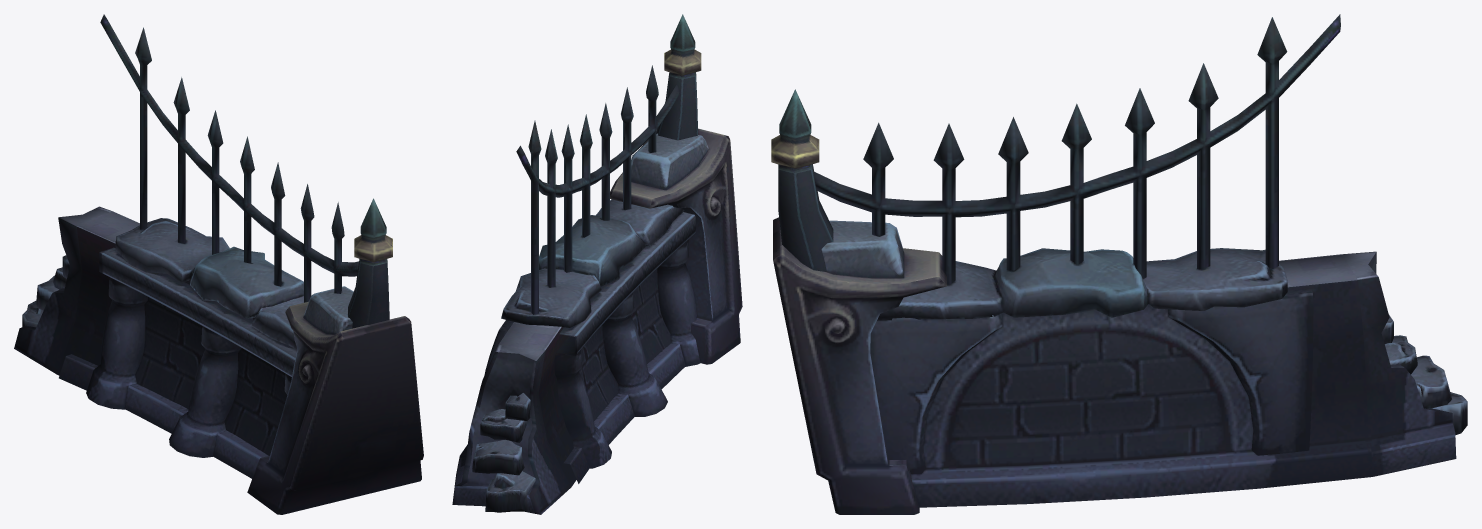
Rendered from Wall_02.obj.
The picture shows the model from 3 angles, left to right: view 1: azimuth 30°, elevation 25°; view 2: azimuth 150°, elevation 25°; view 3: azimuth 270°, elevation 25°; orthographic projection. The views are drawn at different scales.
Visible parts, largest first — view 1: Storm_Building_WinterCrest_Wall_0; view 2: Storm_Building_WinterCrest_Wall_0; view 3: Storm_Building_WinterCrest_Wall_0.
Boxes of the visible parts, x1,y1,x2,y2 form: Storm_Building_WinterCrest_Wall_0: (14, 14, 423, 514); Storm_Building_WinterCrest_Wall_0: (452, 14, 742, 514); Storm_Building_WinterCrest_Wall_0: (771, 14, 1467, 514).
Bounding box in the file's own units: 268 × 528 × 754.
Materials: 1 (1 with a texture image).
